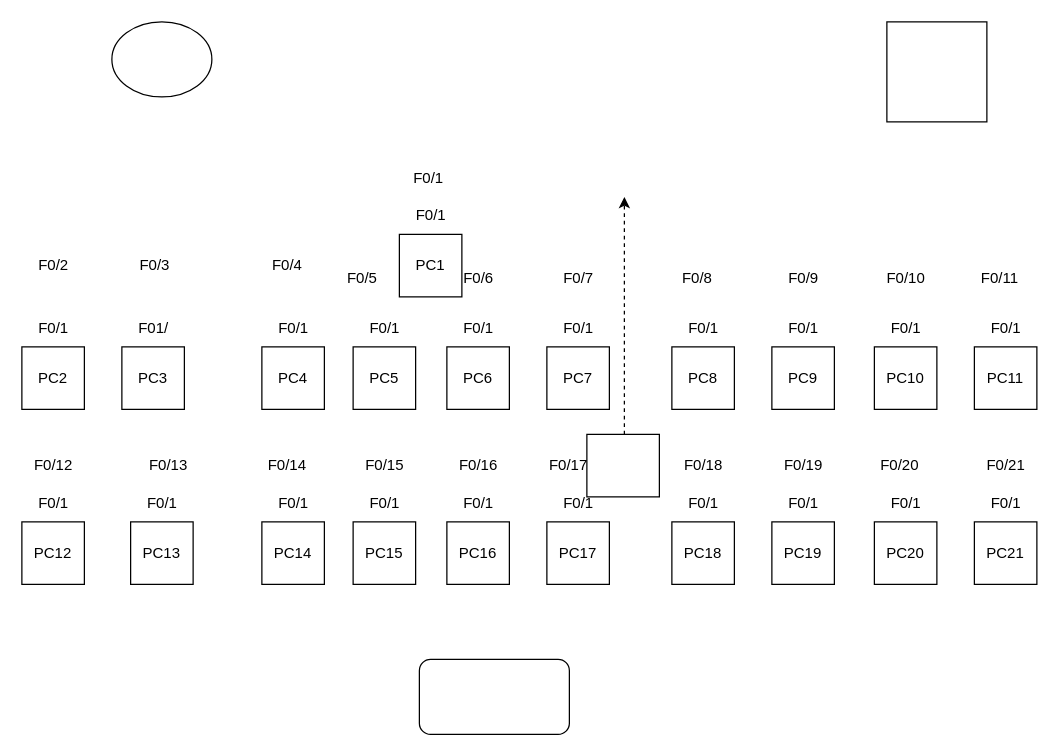
Image size: 1059x756. Some labels were removed from this diagram. The centre of each missing label's shape, as x and y in pixels:
Légkondi: the point at 493,696
Projektor: the point at 622,465
R1: the point at 161,59
SW1: the point at 936,71
